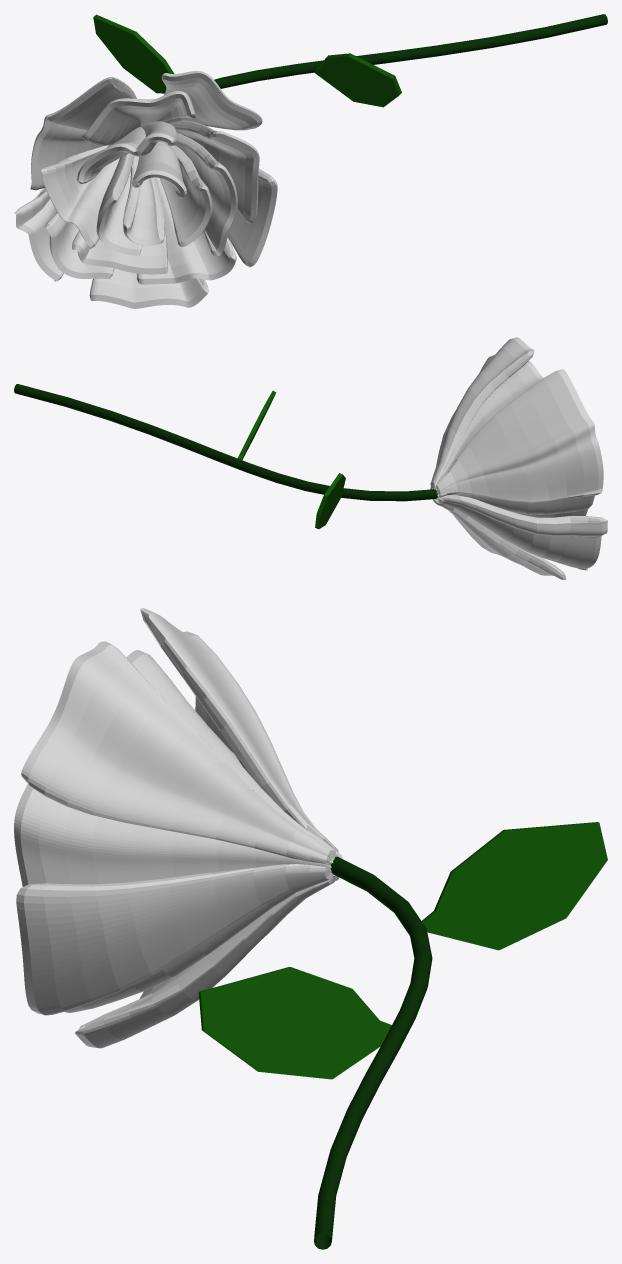
Rendered from flower_1.fbx.
3 views of the same model, one above another, from view 1: azimuth 30°, elevation 25°; view 2: azimuth 150°, elevation 25°; view 3: azimuth 270°, elevation 25° (orthographic). The views are drawn at different scales.
Parts seen in each view (by area): view 1: BezierCurve.001, BezierCurve.002, Plane.001, Plane.002; view 2: BezierCurve.001, BezierCurve.002, Plane.002, Plane.001; view 3: BezierCurve.001, Plane.002, Plane.001, BezierCurve.002.
Boxes of the visible parts, x1,y1,x2,y2 form: BezierCurve.001: (14,71,277,308); BezierCurve.002: (214,14,607,88); Plane.001: (314,53,401,107); Plane.002: (93,14,174,93); BezierCurve.001: (430,337,607,579); BezierCurve.002: (14,384,437,501); Plane.002: (315,473,345,529); Plane.001: (237,391,276,459); BezierCurve.001: (14,608,342,1048); Plane.002: (421,822,607,950); Plane.001: (198,967,391,1079); BezierCurve.002: (314,856,432,1249).
Size of the model in its own units: 262 by 95.35 by 131.
